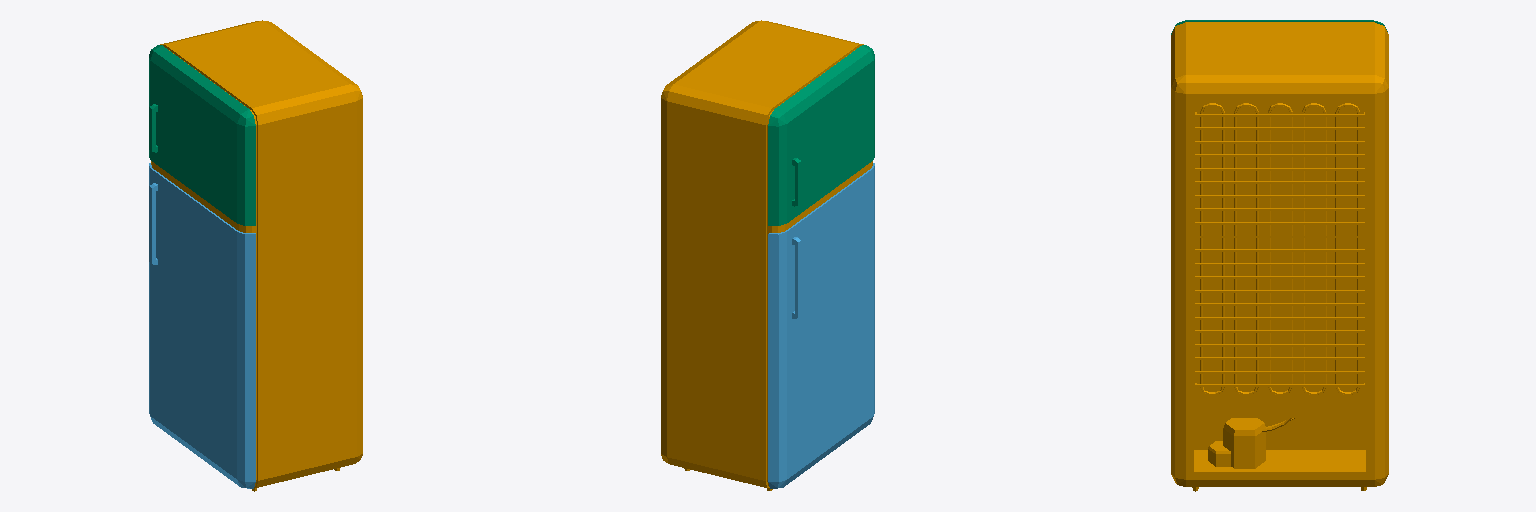
The robot description file, URDF, robot "Refrigerator":
<robot name="Refrigerator">
    <link name="corpus">
        <visual>
            <geometry>
                <mesh filename="meshes/corpus.obj" scale="6.0"/>
            </geometry>
        </visual>
        <collision>
            <geometry>
                <mesh filename="meshes/corpus.obj" scale="6.0"/>
            </geometry>
        </collision>
    </link>
    <link name="door">
        <visual>
            <geometry>
                <mesh filename="meshes/door.obj" scale="6.0"/>
            </geometry>
        </visual>
        <collision>
            <geometry>
                <mesh filename="meshes/door.obj" scale="6.0"/>
            </geometry>
        </collision>
    </link>
    <link name="door_freezer">
        <visual>
            <geometry>
                <mesh filename="meshes/door_freezer.obj" scale="6.0"/>
            </geometry>
        </visual>
        <collision>
            <geometry>
                <mesh filename="meshes/door_freezer.obj" scale="6.0"/>
            </geometry>
        </collision>
    </link>


    <joint name="door_hinge" type="revolute">
        <origin xyz="0.0 0.0 0.0" rpy="0.0 0.0 0.0"/>
        <parent link="corpus"/>
        <child link="door"/>
        <axis xyz="0.0 0.0 1.0"/>
        <limit lower="0.0" upper="2.0944" effort="100.0" velocity="100.0"/>
    </joint>
    <joint name="door_freezer_hinge" type="revolute">
        <origin xyz="0.0 0.0 0.0" rpy="0.0 0.0 0.0"/>
        <parent link="corpus"/>
        <child link="door_freezer"/>
        <axis xyz="0.0 0.0 1.0"/>
        <limit lower="0.0" upper="2.0944" effort="100.0" velocity="100.0"/>
    </joint>
</robot>

--- What the picture shows (computed from the rendered views, not written in the file) ---
The picture shows the robot from 3 angles, left to right: view 1: azimuth 30°, elevation 25°; view 2: azimuth 150°, elevation 25°; view 3: azimuth 270°, elevation 25°; orthographic projection.
Model Refrigerator with 3 links and 2 joints (2 revolute), rooted at corpus, posed every joint at zero.
Links seen in each view (by area): view 1: corpus, door, door_freezer; view 2: corpus, door, door_freezer; view 3: corpus.
Link boxes in pixels (<box>): corpus: <box>151,20,362,491</box>; door: <box>149,163,255,488</box>; door_freezer: <box>149,45,255,225</box>; corpus: <box>661,20,872,490</box>; door: <box>768,163,874,488</box>; door_freezer: <box>768,45,874,225</box>; corpus: <box>1171,22,1388,491</box>.
Size in the robot's own frame: 0.6994 by 0.8998 by 1.91 metres.
Meshes: 3 distinct files referenced, 3 mesh visuals loaded (3 OBJ).